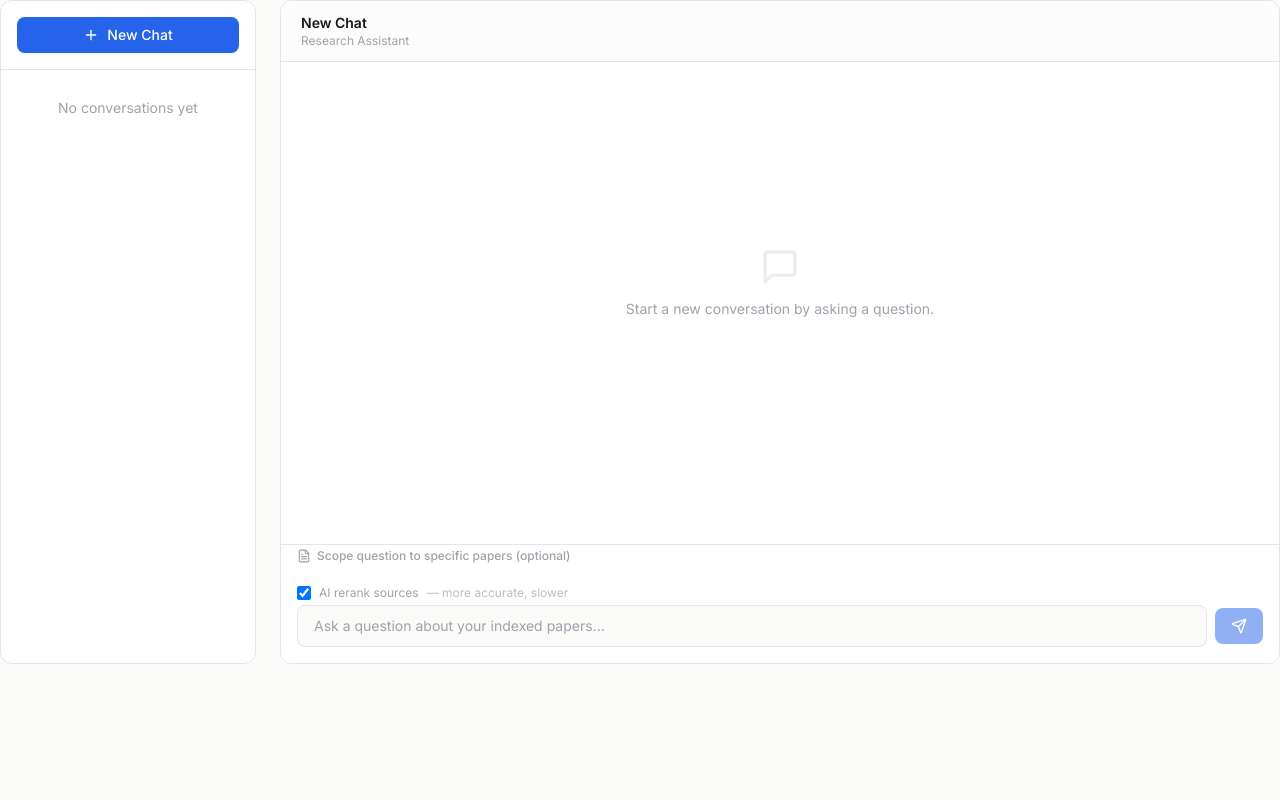
Chat reranking › says so when the answer was built from reranked sources
This screenshot has width=1280, height=800.
(page scrolled)
Type "What is attention?" into the field with placeholder "Ask a question about your indexed papers...".
click(752, 626); type("What is attention?")  # box x1=297 y1=605 x2=1207 y2=647
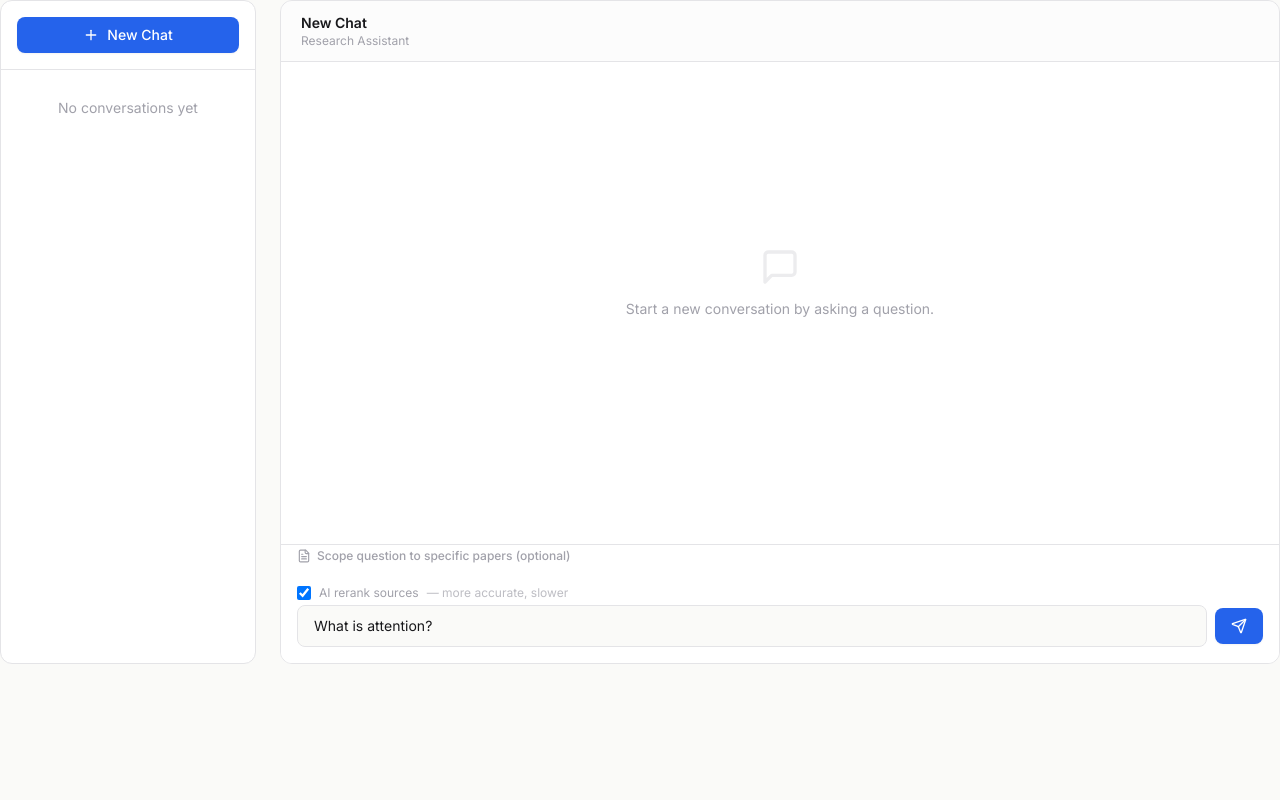
Submit the form with placeholder "ask a question", box x1=297 y1=605 x2=1263 y2=647
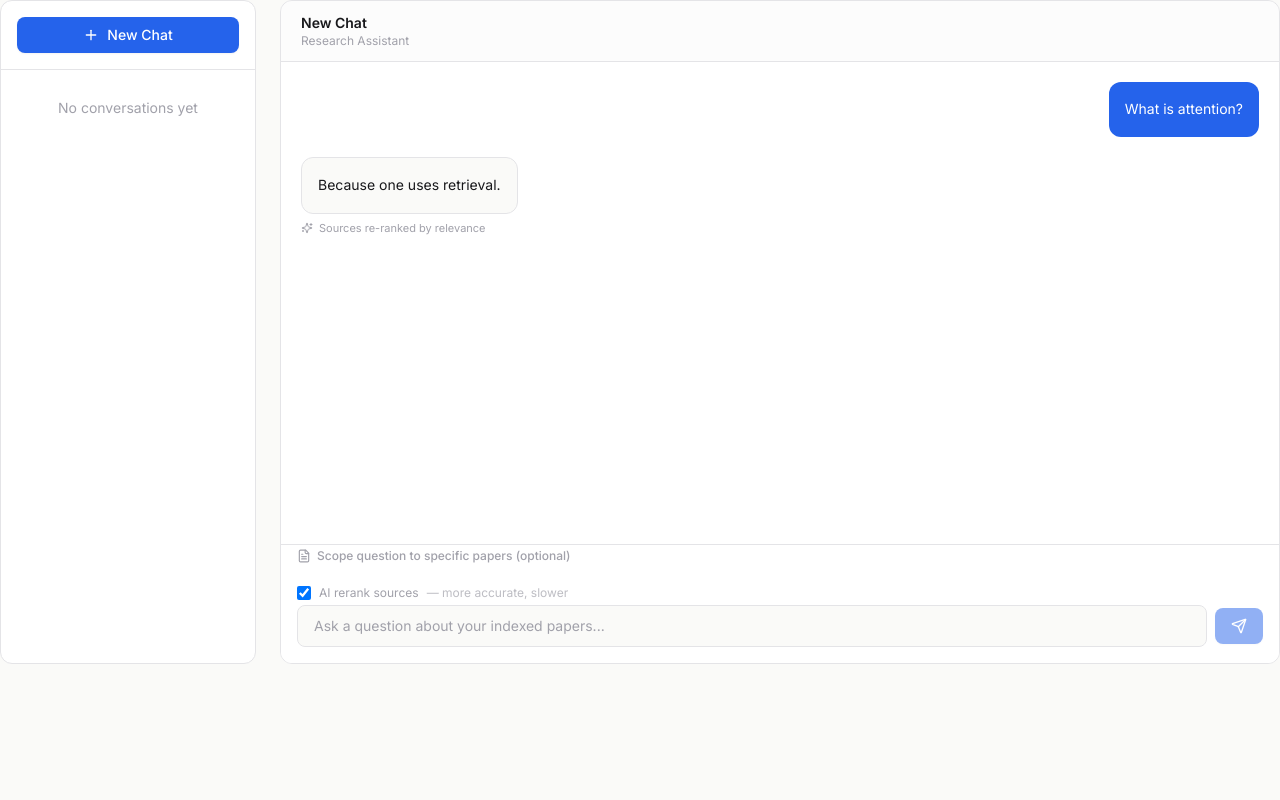
Now the element with test id "message-reranked" is shown, box x1=301 y1=220 x2=486 y2=236
